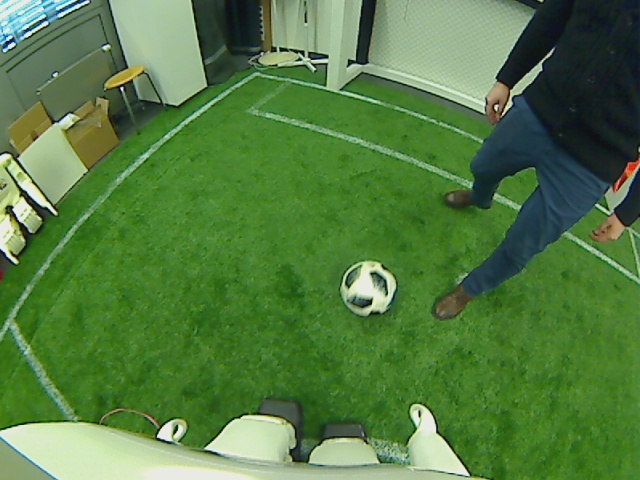ball: (340, 260, 396, 316)
